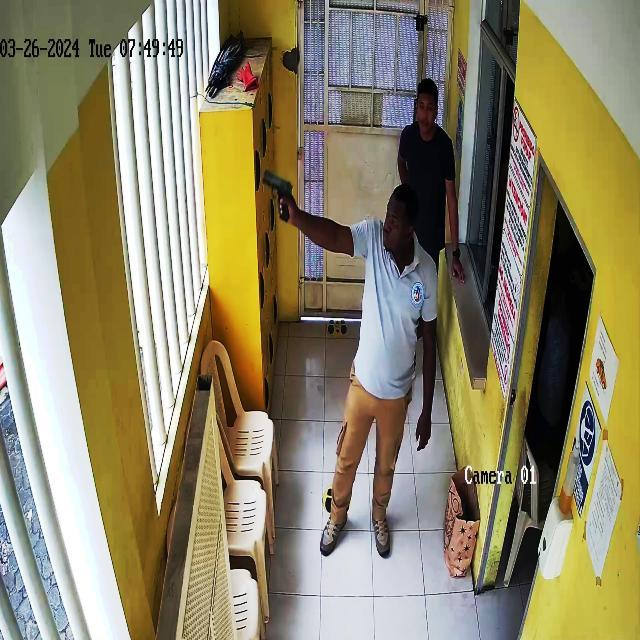Gun: (246, 152, 301, 232)
